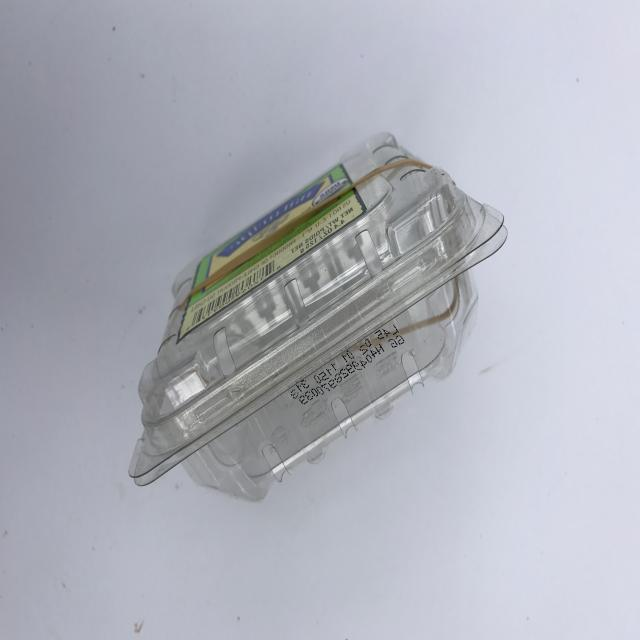plastic: (128, 130, 508, 502)
